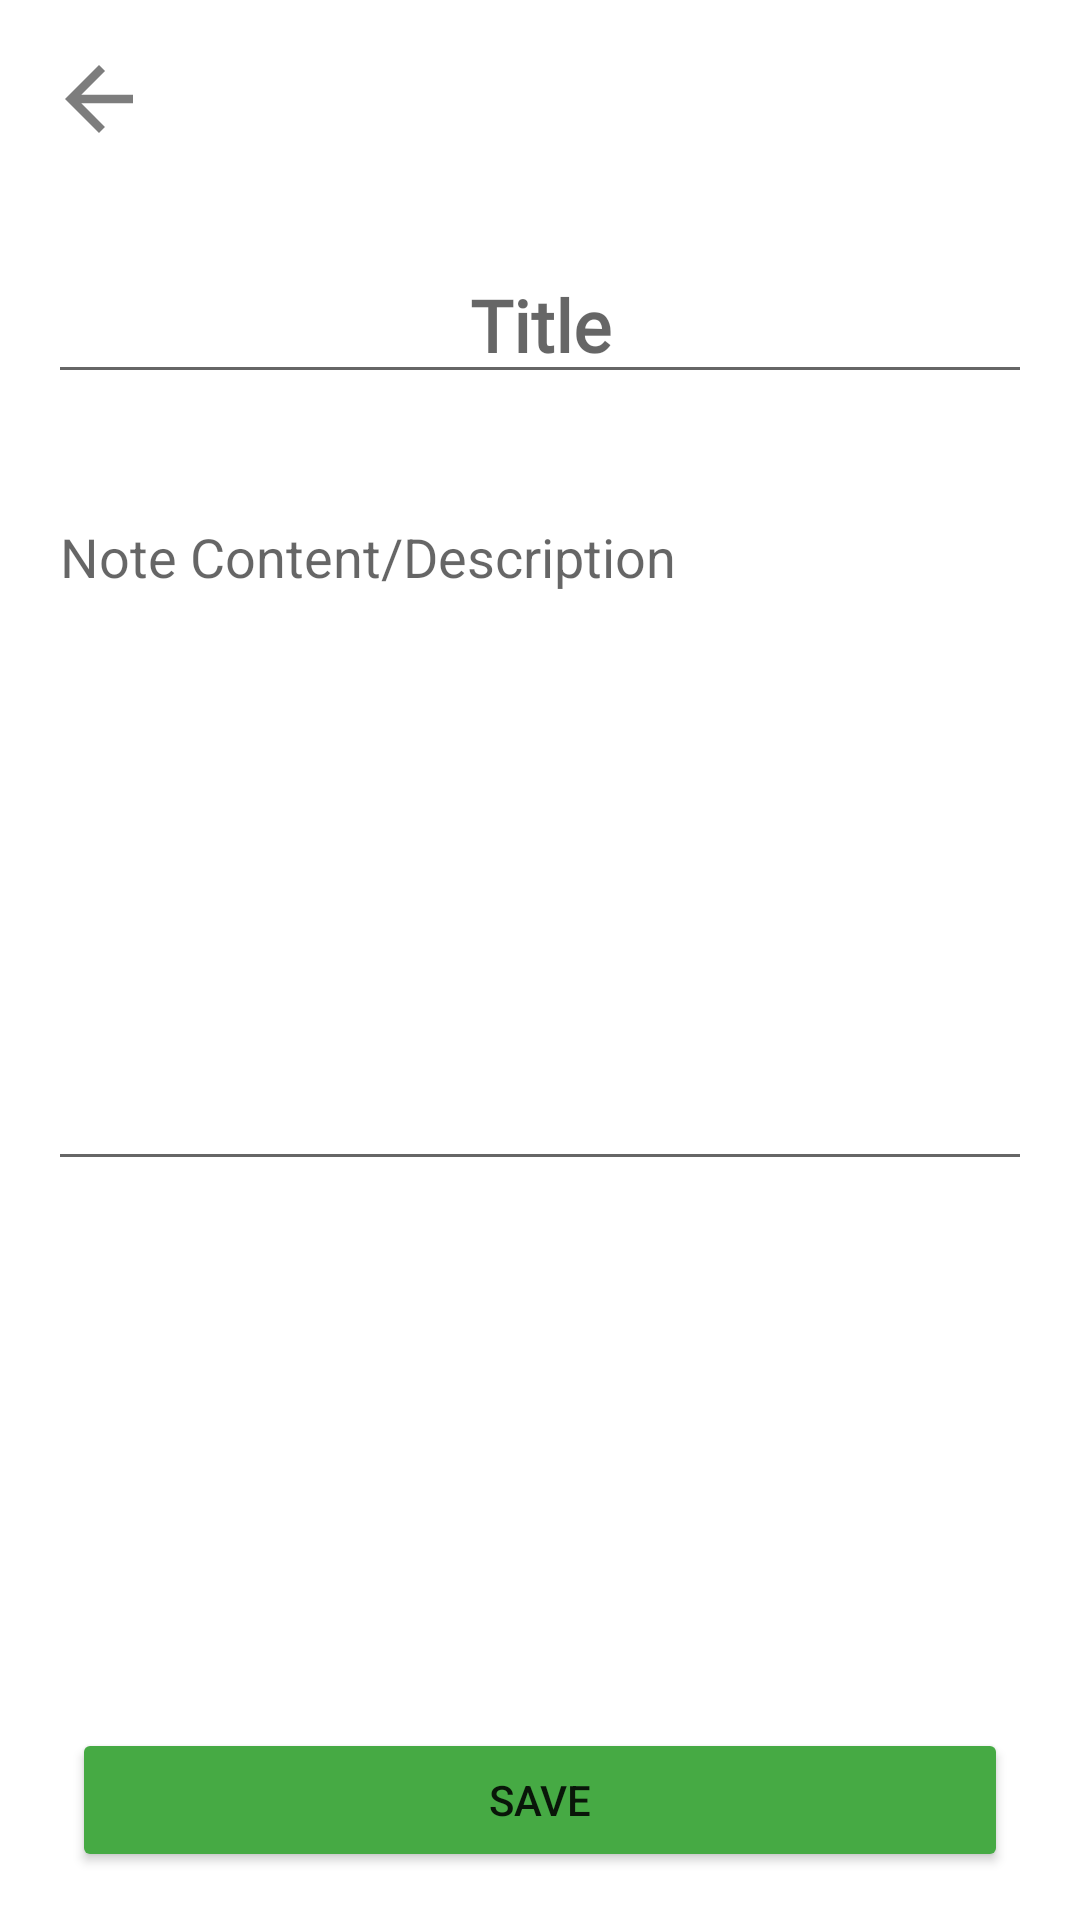

Screen size 1080px×1920px. Icon name, then its box in pixels as region(x1, y1, x2, y2):
arrow back: region(65, 65, 133, 133)
